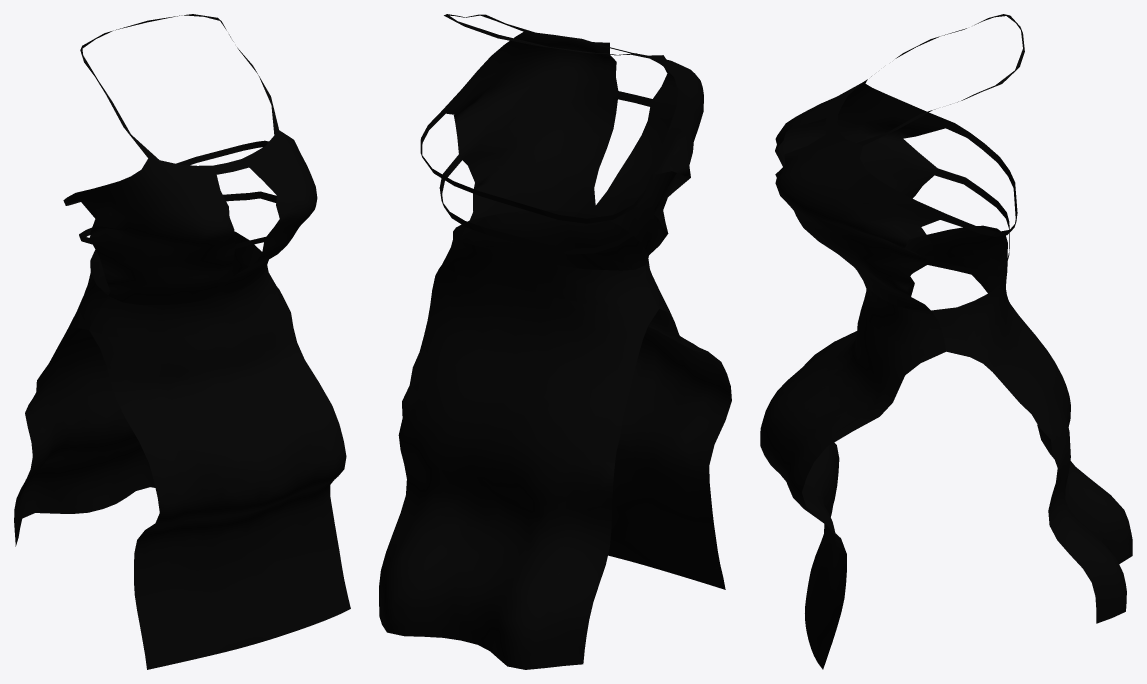
The model's file is city-dress.glb.
The picture shows the model from 3 angles, left to right: view 1: azimuth 30°, elevation 25°; view 2: azimuth 150°, elevation 25°; view 3: azimuth 270°, elevation 25°; orthographic projection. The views are drawn at different scales.
Visible parts, largest first — view 1: Uploaded_Dress; view 2: Uploaded_Dress; view 3: Uploaded_Dress.
Boxes of the visible parts, x1,y1,x2,y2 form: Uploaded_Dress: (14,14,350,669); Uploaded_Dress: (379,14,731,669); Uploaded_Dress: (760,14,1132,669).
Bounding box in the file's own units: 0.3188 × 0.7529 × 0.4435.
1 material, 1 textured.
